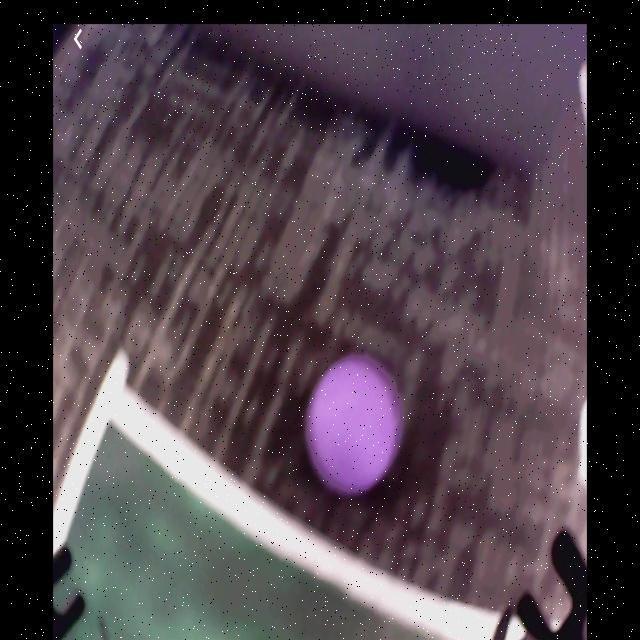ball: (306, 357, 402, 489)
